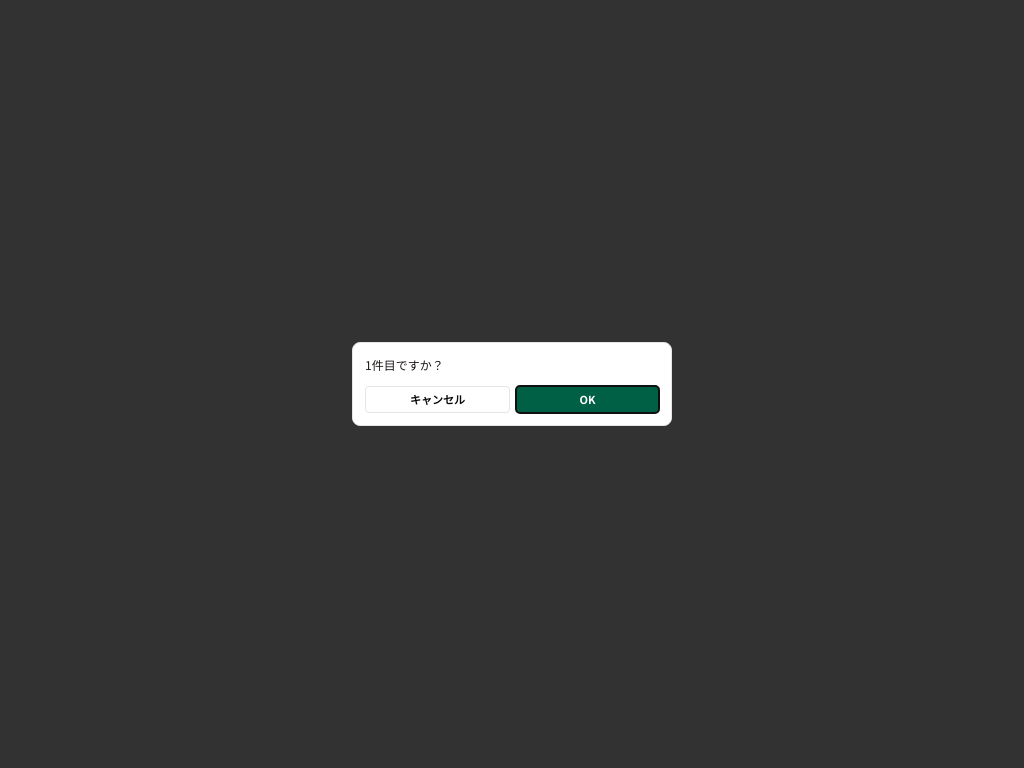
ConfirmDialog (window.confirm replacement) › shows queued confirms one at a time
Later steps or results of the test are not shown.
Check: the text "2件目ですか？" is not shown
Click the button "OK". click: (588, 400)
box: [516,386,659,414]
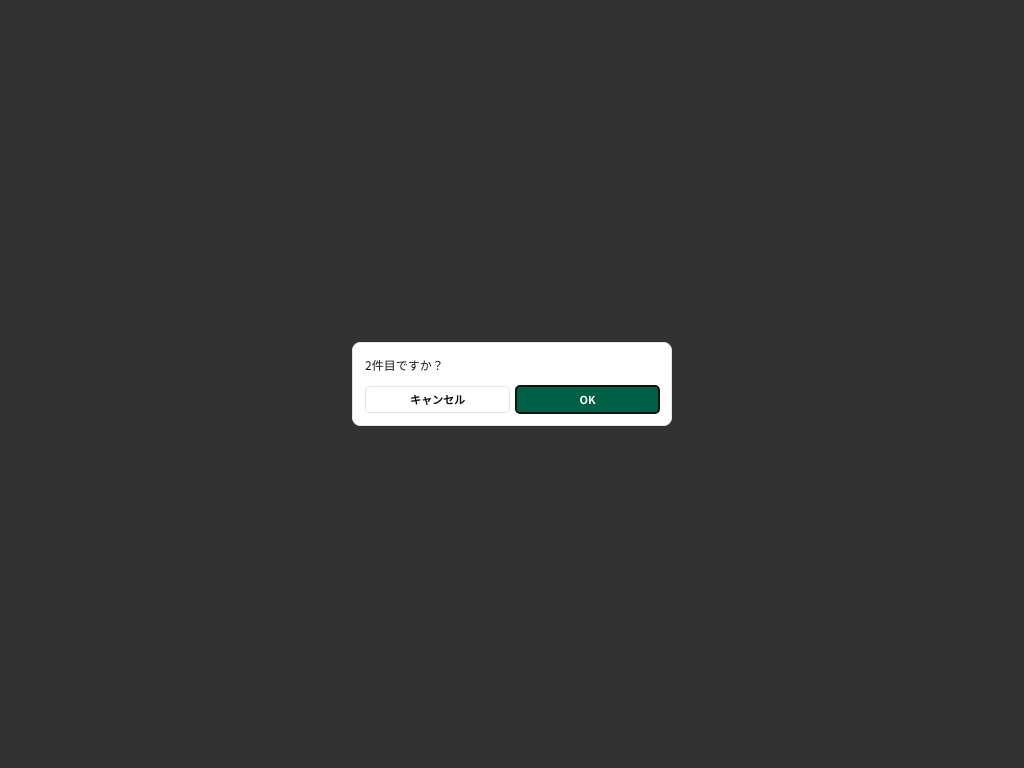
Check: the text "2件目ですか？" is shown, box [365,356,444,372]
